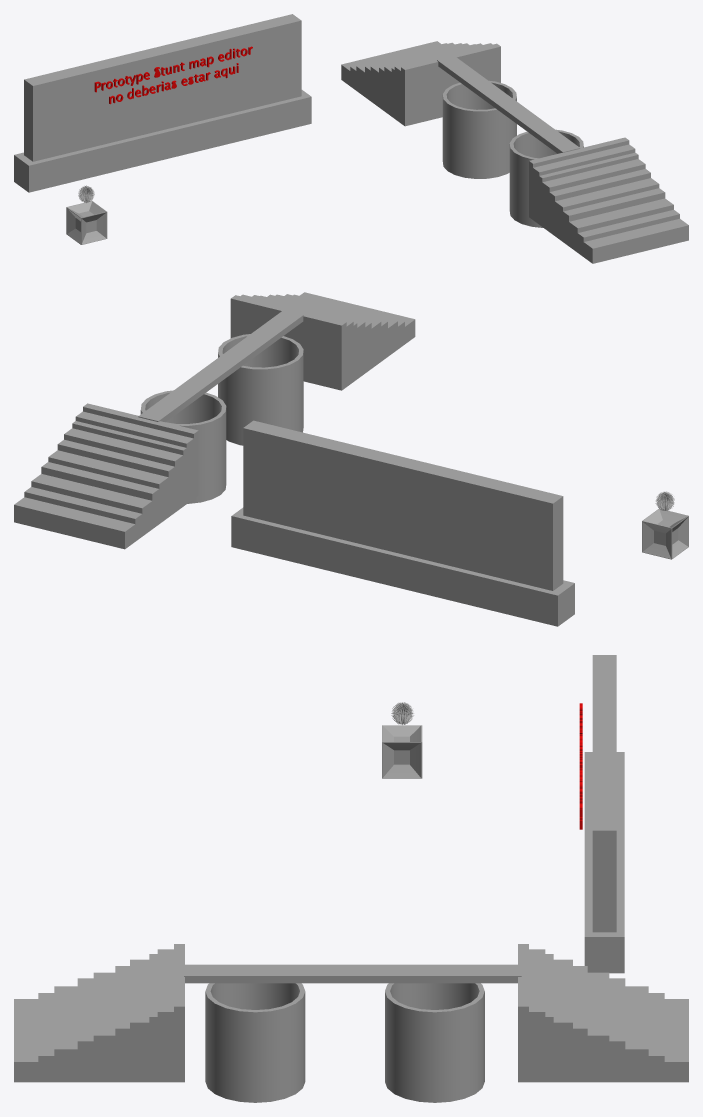
Rendered from Tech-test.fbx.
The picture shows the model from 3 angles, top to bottom: view 1: azimuth 30°, elevation 25°; view 2: azimuth 150°, elevation 25°; view 3: azimuth 270°, elevation 25°; orthographic projection. The views are drawn at different scales.
Visible parts, largest first — view 1: pCube1, pCube2, pCube4, pCylinder1, pCube3, pCylinder2, typeMesh1, pCube5; view 2: pCube1, pCube4, pCube2, pCylinder2, pCube3, pCylinder1, pCube5; view 3: pCube2, pCube4, pCylinder2, pCylinder1, pCube1, pCube3, pCube5.
Boxes of the visible parts, x1,y1,x2,y2 form: pCube1: (14,14,311,192); pCube2: (529,137,688,263); pCube4: (341,41,500,126); pCylinder1: (442,80,516,178); pCube3: (437,56,580,153); pCylinder2: (509,129,583,227); typeMesh1: (94,46,252,104); pCube5: (66,201,107,244); pCube1: (231,420,574,626); pCube4: (14,403,198,549); pCube2: (230,292,415,390); pCylinder2: (218,334,303,445); pCube3: (138,310,303,422); pCylinder1: (140,390,226,503); pCube5: (642,508,688,559); pCube2: (14,944,184,1082); pCube4: (518,944,688,1082); pCylinder2: (205,983,305,1102); pCylinder1: (385,983,484,1102); pCube1: (584,655,624,973); pCube3: (184,964,521,983); pCube5: (382,725,422,778).
Size of what is drawn, in the model's own units: 642 by 168 by 595.
